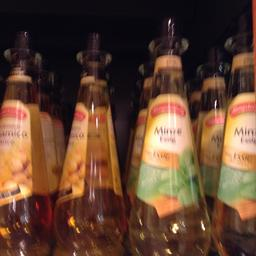vinegar: (128, 20, 219, 254), (54, 32, 124, 255), (0, 32, 53, 254), (216, 34, 254, 255)
